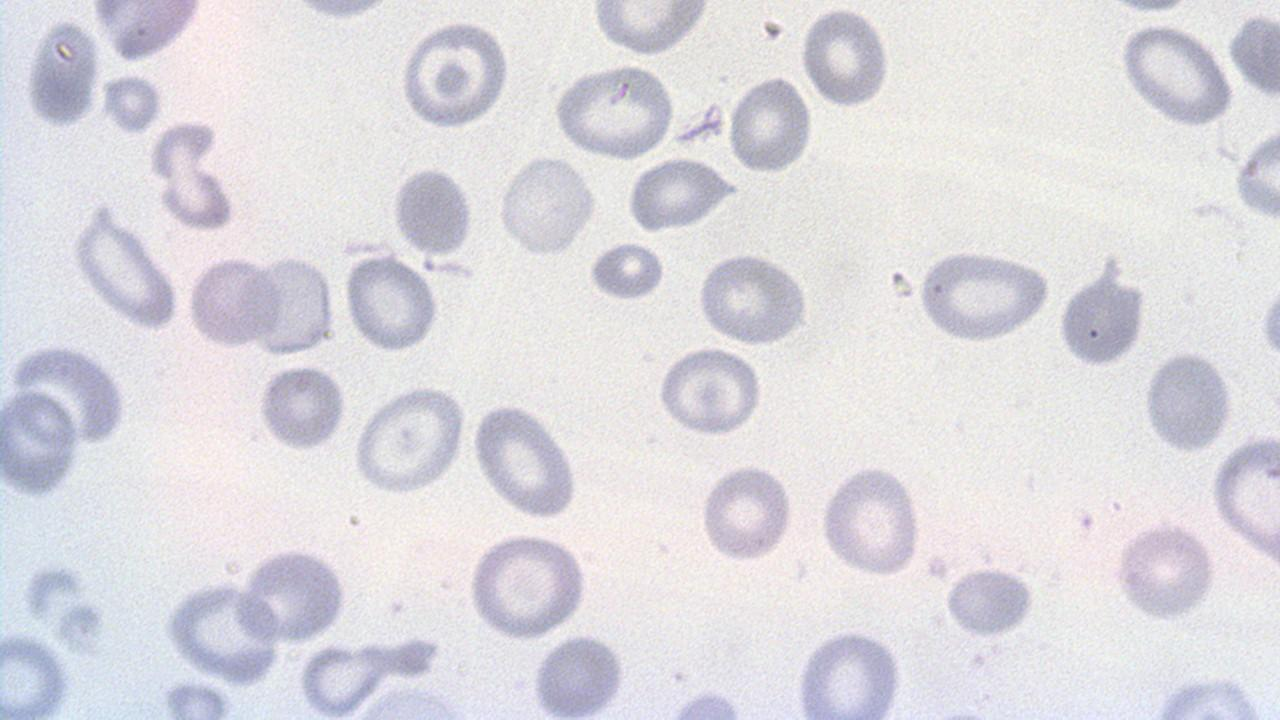Platelets: (1053, 263, 1151, 371), (0, 389, 85, 500), (251, 362, 348, 454), (940, 562, 1042, 640), (584, 241, 668, 303), (19, 561, 88, 626), (382, 630, 445, 682), (158, 678, 238, 718), (54, 598, 109, 653), (670, 104, 728, 146), (1257, 277, 1280, 370), (1107, 0, 1187, 17), (1073, 507, 1093, 532)
RBC: (465, 529, 593, 642), (70, 207, 183, 332), (913, 244, 1052, 345), (4, 341, 129, 451), (469, 400, 582, 521), (350, 383, 469, 497), (396, 16, 512, 130), (159, 578, 283, 684), (1115, 21, 1237, 127), (817, 460, 924, 580), (550, 60, 676, 161), (694, 249, 816, 349), (234, 546, 352, 646), (790, 622, 908, 720), (1110, 518, 1218, 622), (494, 154, 599, 258), (1139, 348, 1237, 456), (654, 344, 766, 438), (696, 460, 798, 562), (340, 254, 442, 354), (798, 4, 893, 111), (1209, 426, 1279, 570), (20, 12, 103, 132), (0, 387, 84, 500), (250, 251, 337, 359), (726, 71, 815, 176), (184, 252, 278, 351), (530, 628, 631, 720), (255, 358, 350, 455), (624, 154, 736, 232), (389, 163, 475, 258), (88, 1, 207, 66), (942, 562, 1040, 640), (295, 639, 387, 718), (589, 0, 711, 59), (0, 627, 74, 717), (1227, 6, 1279, 110), (588, 241, 669, 304), (1230, 121, 1278, 224), (157, 678, 238, 718)
WBC: (0, 0, 586, 720), (826, 0, 1280, 704), (0, 0, 331, 438), (1127, 234, 1251, 546), (1054, 242, 1158, 392), (7, 332, 132, 455), (790, 623, 912, 717), (1141, 348, 1235, 458), (89, 1, 210, 64), (1257, 272, 1279, 372)
